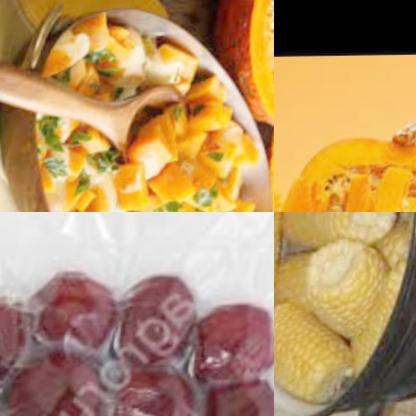beet: (0, 282, 274, 416)
corn: (274, 301, 369, 408), (301, 237, 396, 334), (278, 212, 398, 251)
pumpkin: (20, 12, 274, 212), (291, 133, 416, 208), (220, 0, 274, 131), (300, 171, 396, 212), (274, 176, 327, 212)
